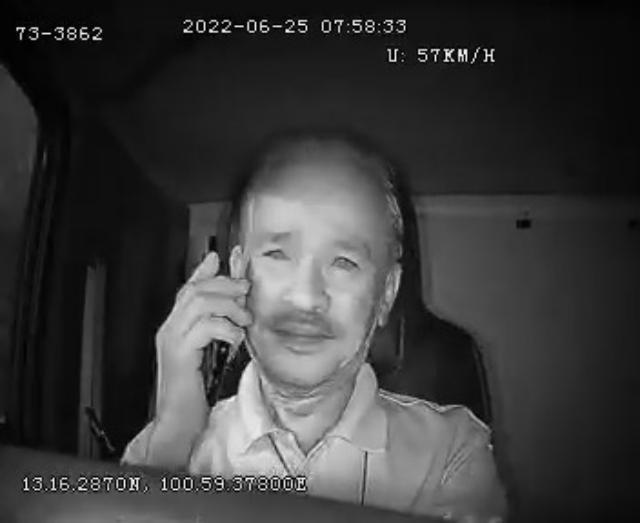PhoneUse: (190, 231, 234, 413)
SafeDriving: (322, 242, 367, 280), (253, 233, 297, 269)
